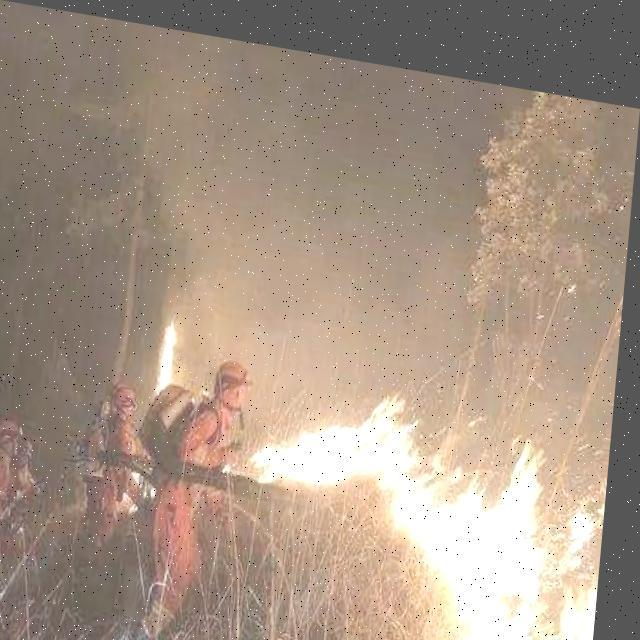Fire: (243, 356, 616, 639), (160, 314, 188, 387)
